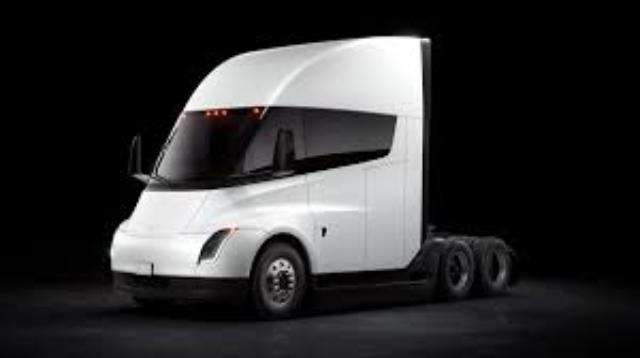tesla: (110, 37, 512, 319)
